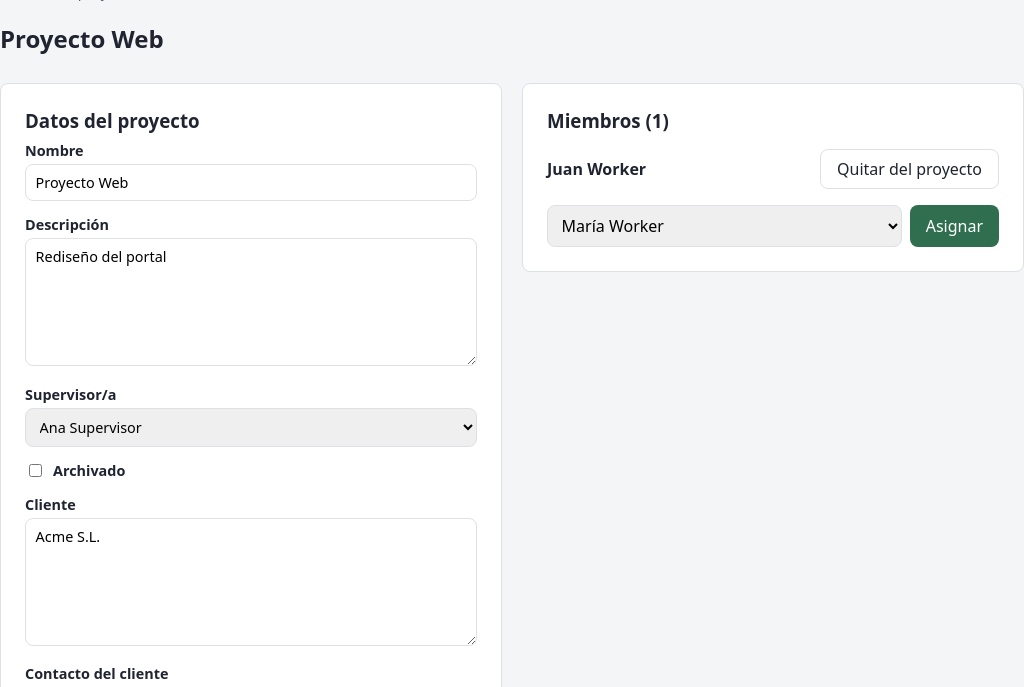
Scenario: AdminProjectDetail › edita los datos del proyecto y confirma visualmente el guardado
Expected: the heading "Proyecto Web" is shown, [0,22,164,55]
Replace the text in the field labelled "Nombre" with "Proyecto Web v2" at (251, 182), box [25,164,477,201]
(page scrolled)
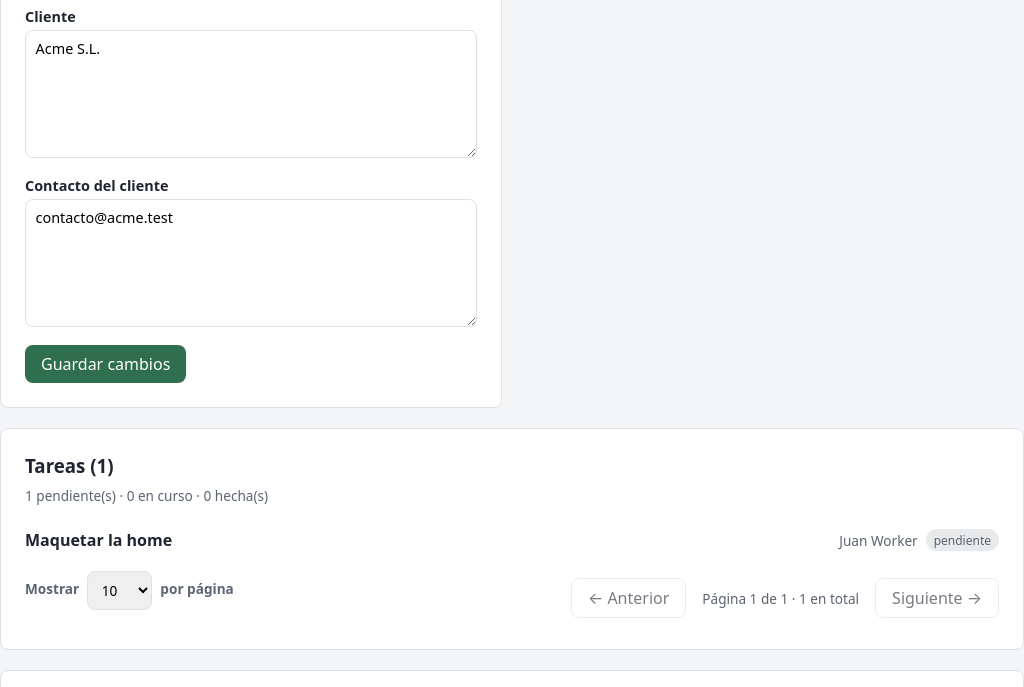
Click the button "Guardar cambios" at (106, 364), box [25,345,186,383]
(page scrolled)
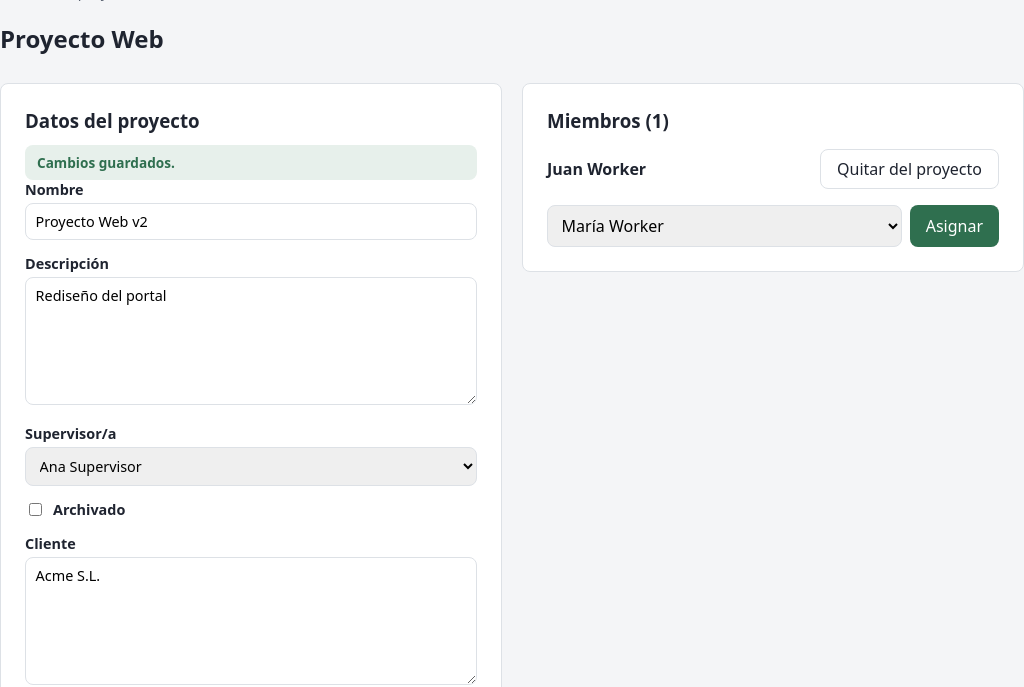
Result: the text "Cambios guardados." is shown at [25,145,477,180]
